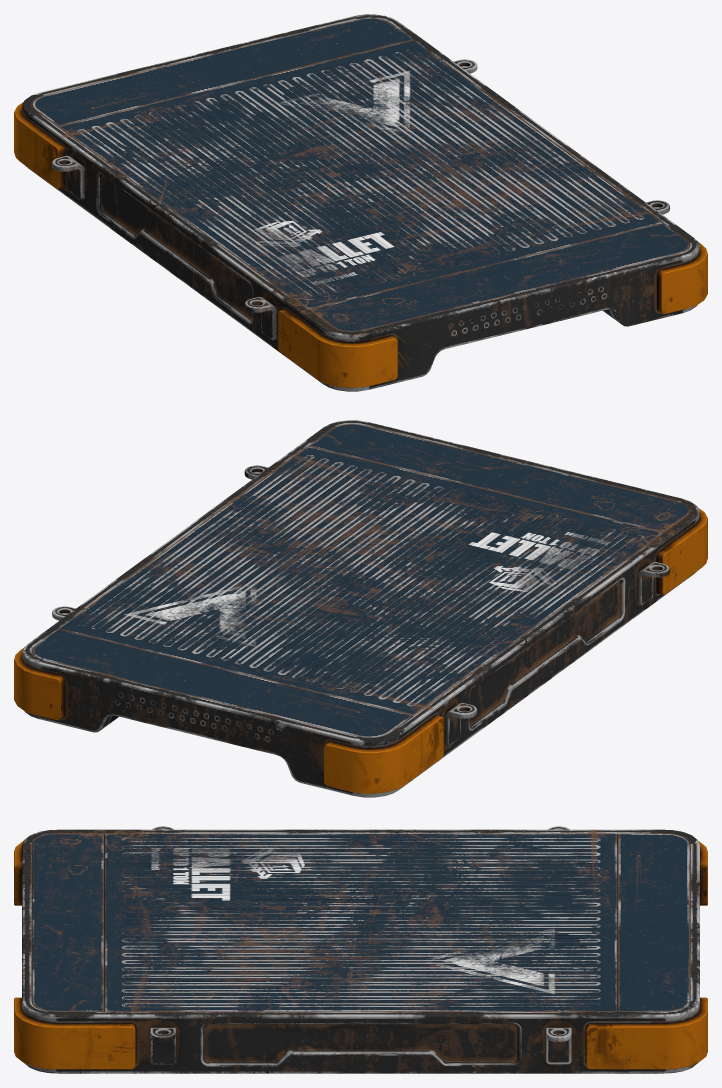
File: SM_Pallet02.fbx
3 views of the same model, one above another, from view 1: azimuth 30°, elevation 25°; view 2: azimuth 150°, elevation 25°; view 3: azimuth 270°, elevation 25° (orthographic). The views are drawn at different scales.
Parts seen in each view (by area): view 1: SM_Pallet02_LOD0; view 2: SM_Pallet02_LOD0; view 3: SM_Pallet02_LOD0.
Boxes of the visible parts, box(x1,y1,x2,y2) form: SM_Pallet02_LOD0: box(14, 14, 707, 391); SM_Pallet02_LOD0: box(14, 420, 707, 797); SM_Pallet02_LOD0: box(14, 826, 707, 1073).
Bounding box in the file's own units: 162 × 225 × 20.77.
Materials: 1 (1 with a texture image).
